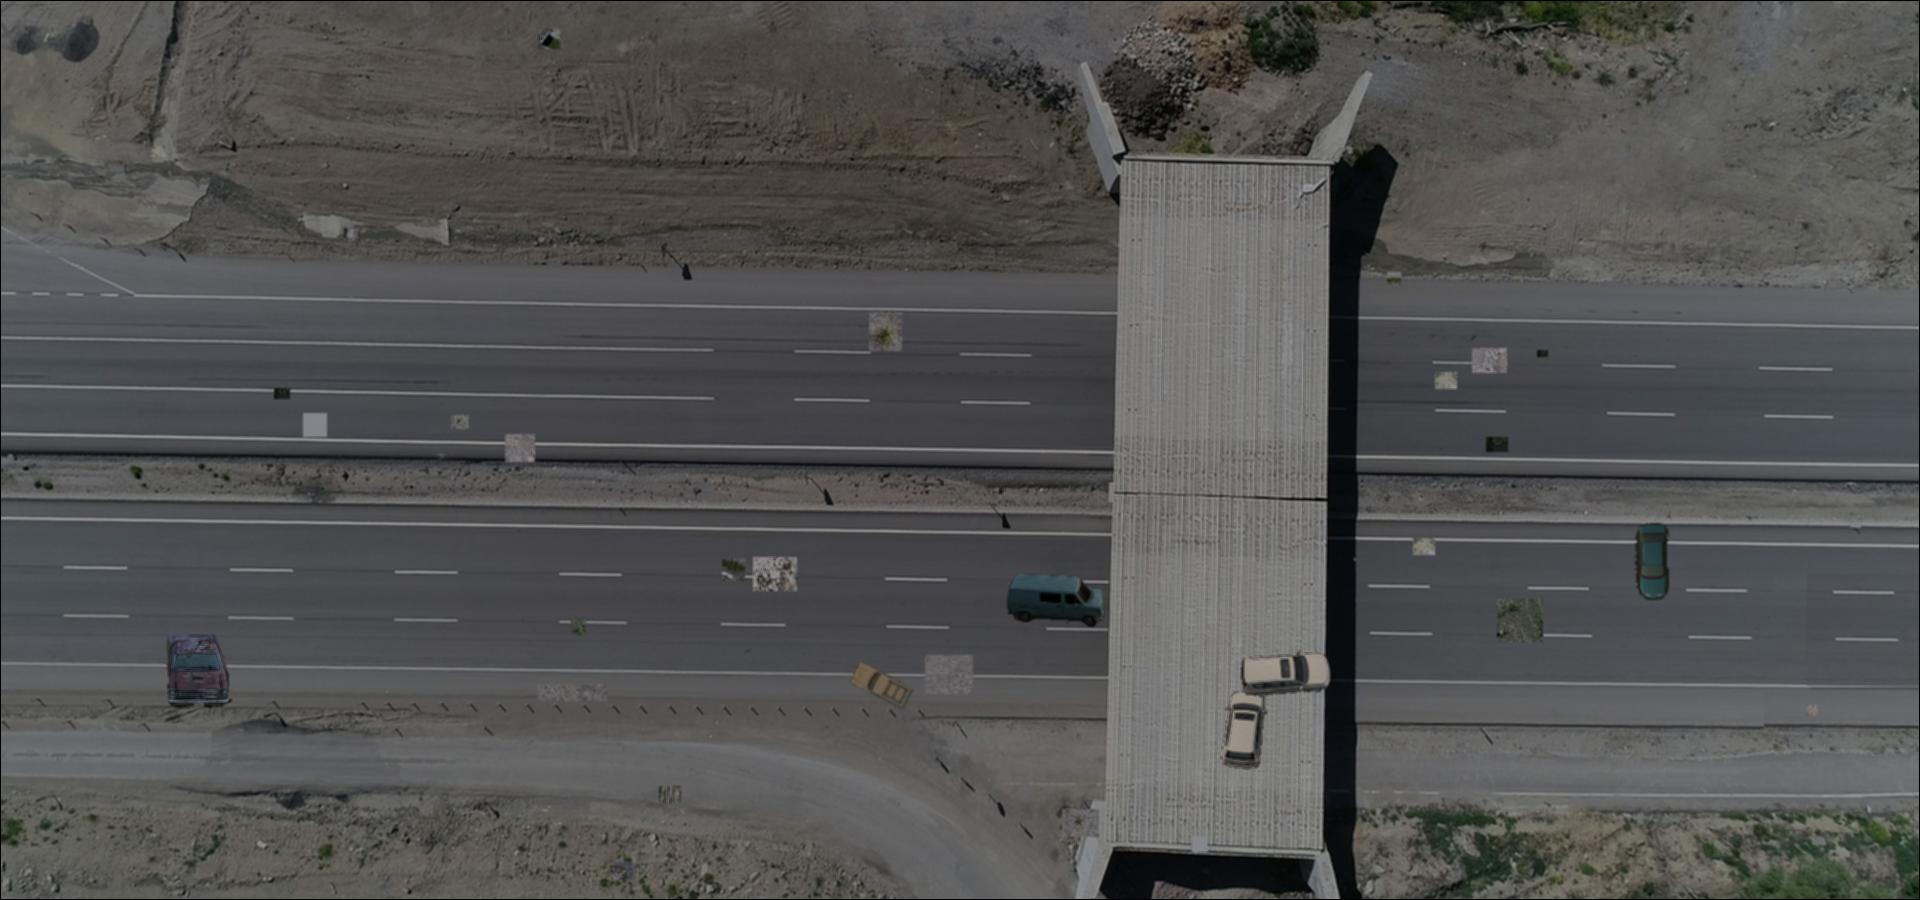arac: (160, 631, 231, 710), (1005, 572, 1104, 628), (1240, 650, 1333, 697), (1218, 689, 1269, 769), (849, 660, 913, 711), (1635, 523, 1669, 600)
